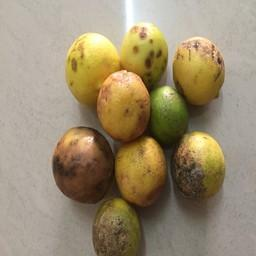Bad_lime: (56, 127, 109, 209), (174, 34, 229, 106), (58, 33, 107, 102), (173, 132, 224, 198), (98, 71, 145, 138), (95, 200, 141, 256), (124, 26, 164, 88)
